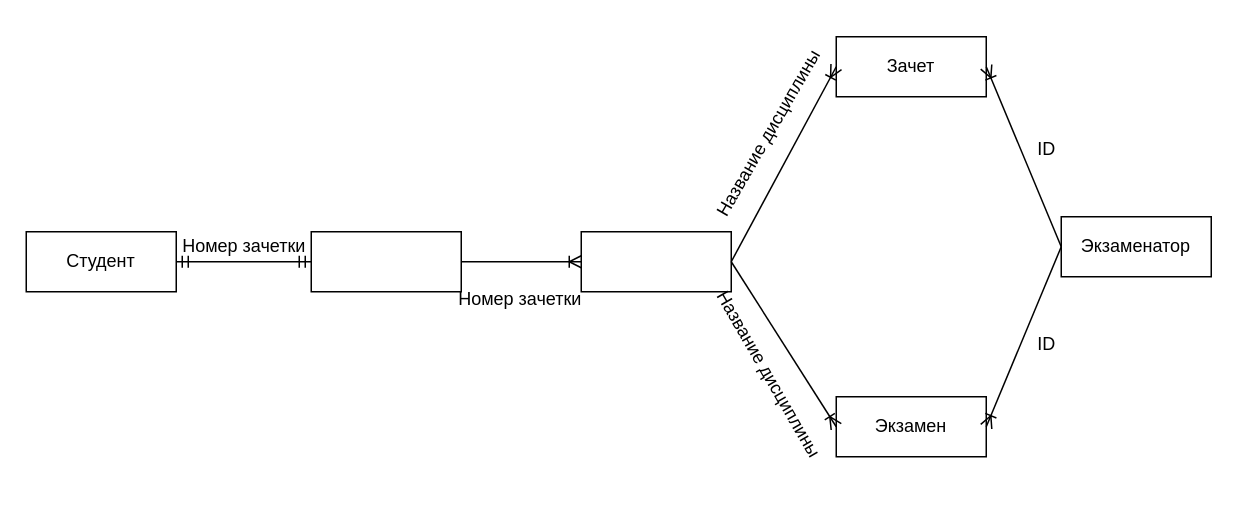
This 1238x509 diagram has some shape labels left out. The shapes that lost their labels are listed below. From the top down, each one's box as (x1, y1, x2, y2) in pixels, then its label:
(310, 230, 461, 292): Зачетная книжка
(580, 230, 731, 292): Сдача дисциплины
